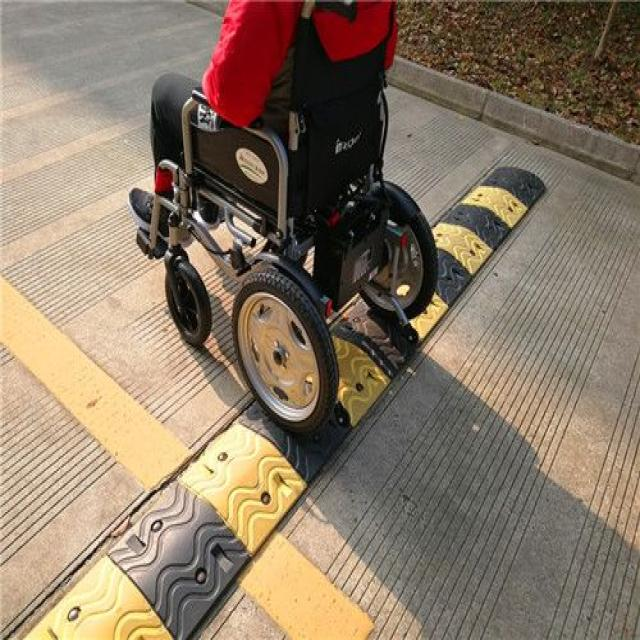wheelchairs: (127, 20, 441, 431)
